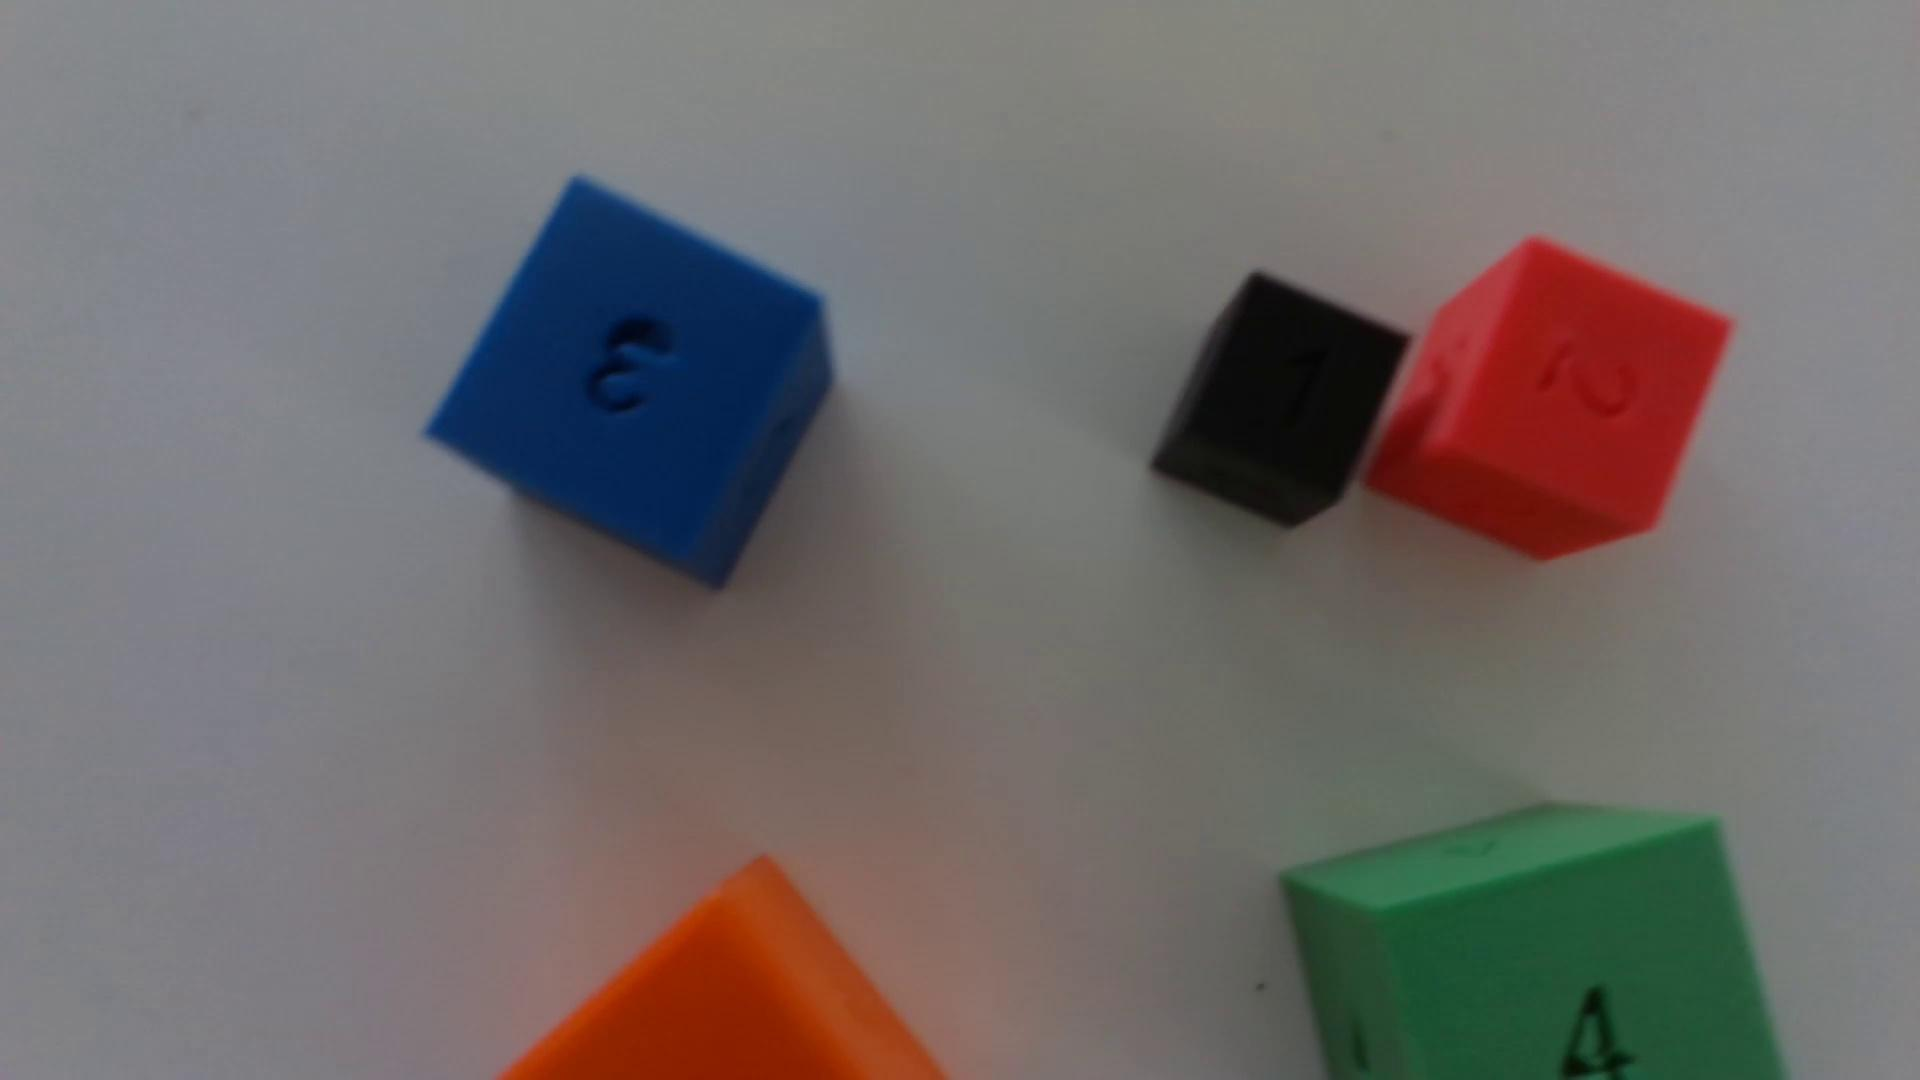black: (1151, 273, 1408, 529)
blue: (426, 181, 833, 587)
green: (1280, 804, 1785, 1080)
orange: (501, 858, 945, 1080)
red: (1364, 240, 1730, 562)
